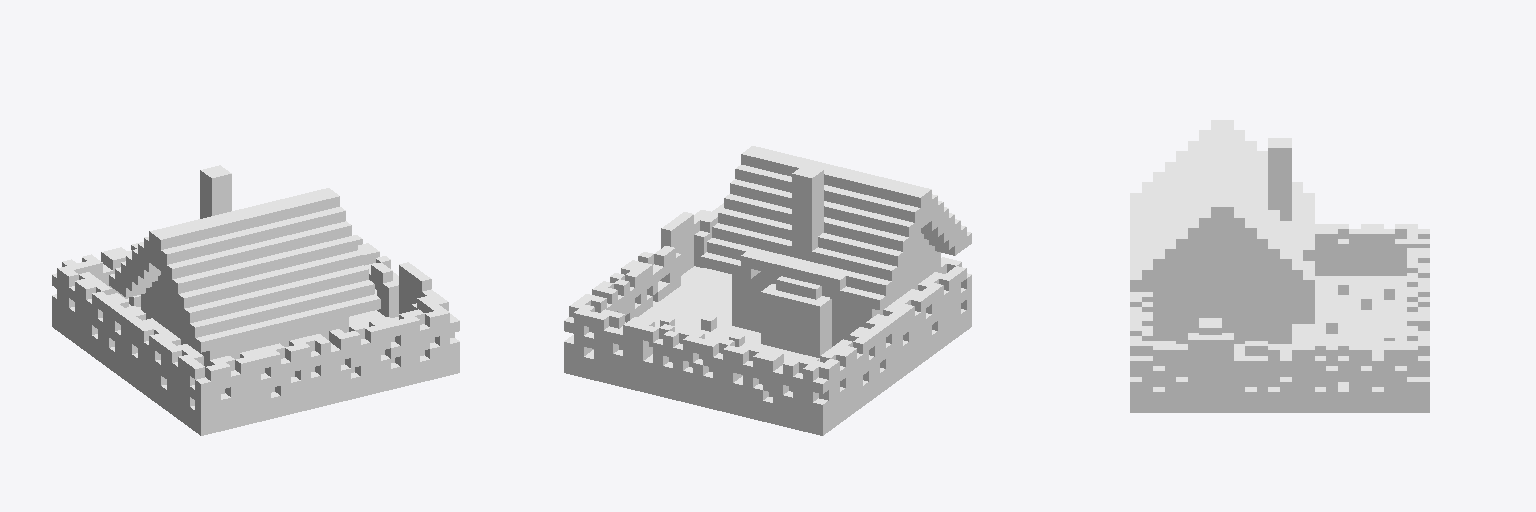
The model's file is house1.4.obj.
The picture shows the model from 3 angles: view 1: azimuth 30°, elevation 25°; view 2: azimuth 150°, elevation 25°; view 3: azimuth 270°, elevation 25°; orthographic projection.
Parts seen in each view (by area): view 1: object 1; view 2: object 1; view 3: object 1.
Part boxes in pixels (left/top/right/bottom): object 1: left=52, top=165, right=459, bottom=435; object 1: left=564, top=146, right=971, bottom=435; object 1: left=1130, top=120, right=1429, bottom=412.
Size of the model in its own units: 2.6 by 1.8 by 2.6.